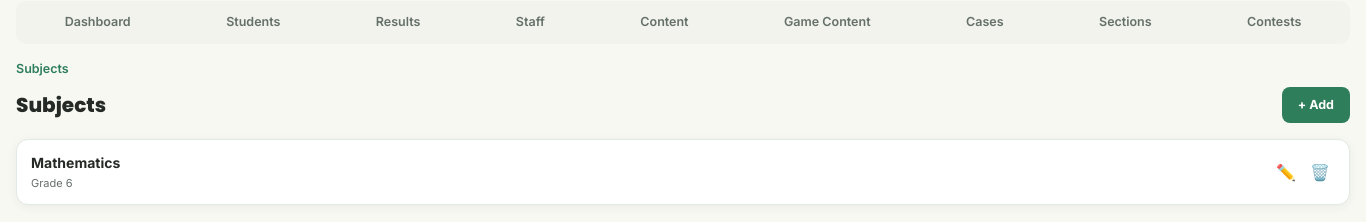
Test: AdminContent › drills down: subject -> chapters -> concepts -> questions, fetching each level with the right parent id
Click the text "Mathematics" at (76, 163), box [31,154,120,171]
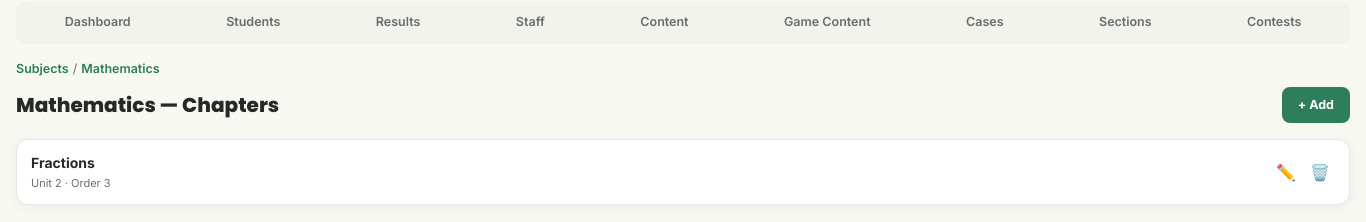
Result: the text "Fractions" is shown
Result: the heading "Mathematics — Chapters" is shown at [16,90,279,120]
Result: the text "Unit 2 · Order 3" is shown at [31,176,111,190]
Click the text "Fractions" at (63, 163), box [31,154,95,171]
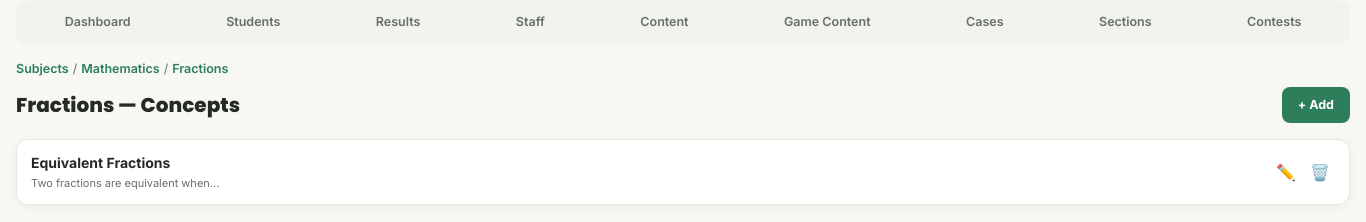
Result: the text "Equivalent Fractions" is shown
Result: the heading "Fractions — Concepts" is shown at [16,90,240,120]
Click the text "Equivalent Fractions" at (101, 163), box [31,154,170,171]
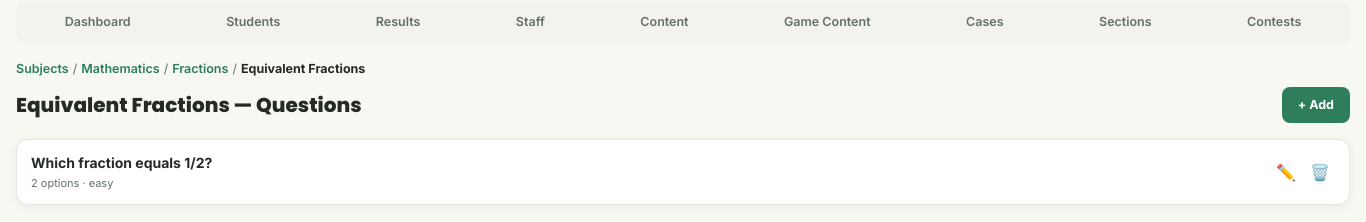
Result: the text "Which fraction equals 1/2?" is shown at [31,154,212,171]
Result: the heading "Equivalent Fractions — Questions" is shown at [16,90,362,120]
Result: the text "2 options · easy" is shown at [31,176,113,190]
